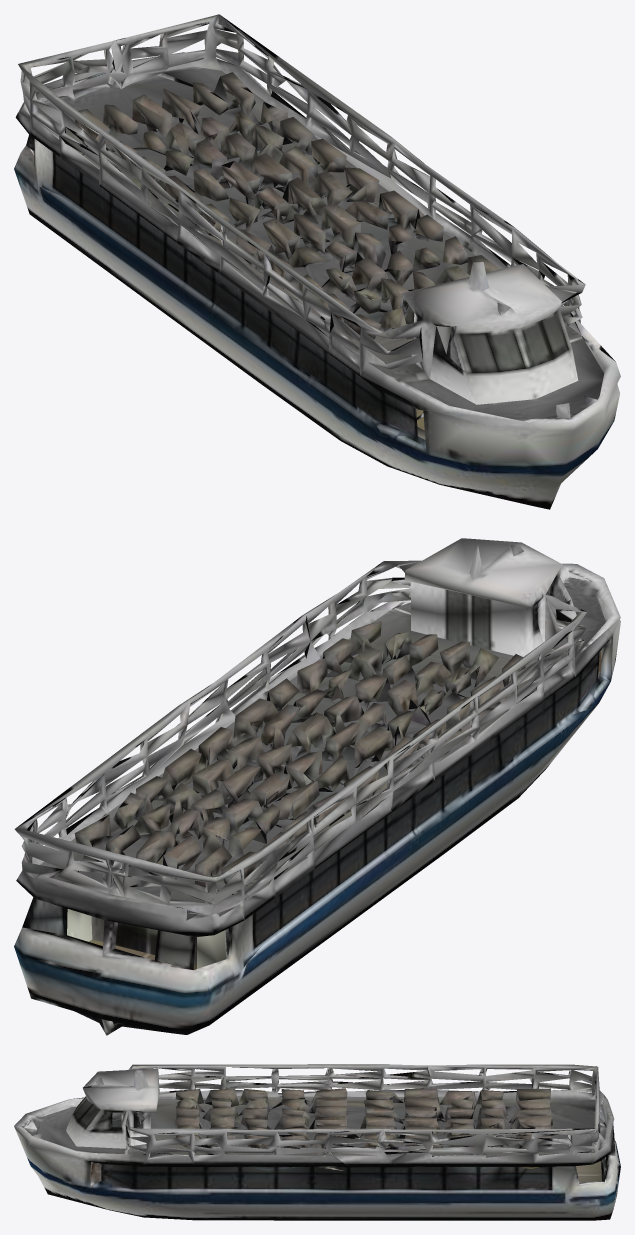
Rendered from tour_boat.glb.
3 views of the same model, one above another, from view 1: azimuth 30°, elevation 25°; view 2: azimuth 150°, elevation 25°; view 3: azimuth 270°, elevation 25° (orthographic). The views are drawn at different scales.
Parts seen in each view (by area): view 1: tour_boat; view 2: tour_boat; view 3: tour_boat.
Boxes of the visible parts, bbox=[...] form: tour_boat: bbox=[14, 14, 620, 509]; tour_boat: bbox=[14, 538, 620, 1035]; tour_boat: bbox=[14, 1064, 620, 1220].
Bounding box in the file's own units: 6.54 × 6.29 × 25.13.
1 material, 1 textured.
